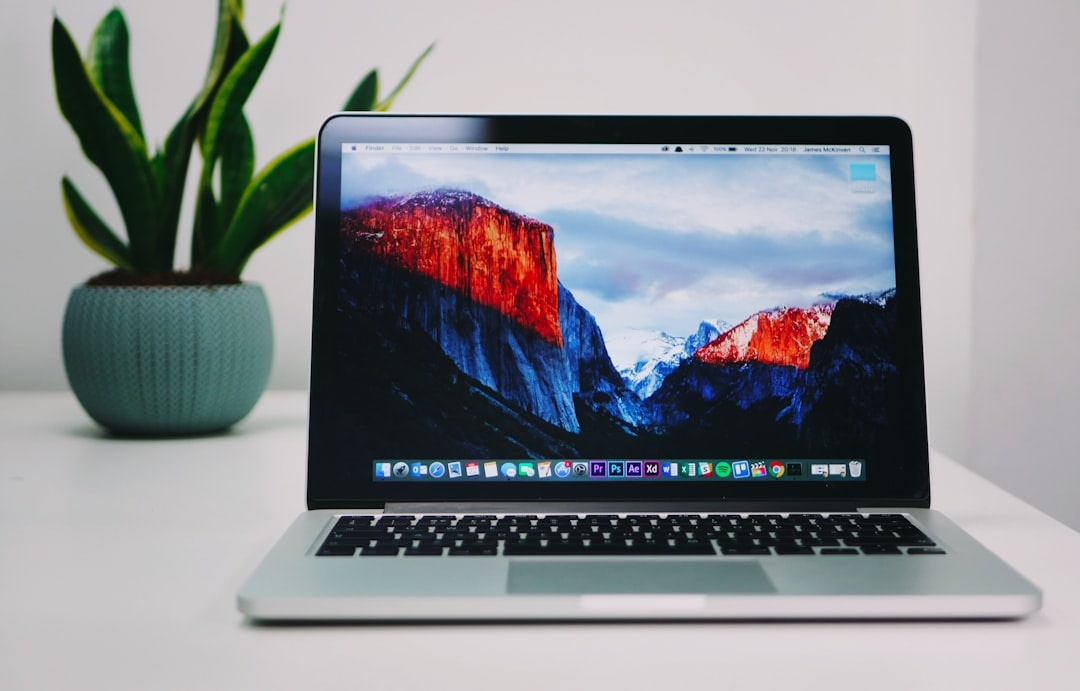laptop: (201, 75, 1061, 639)
